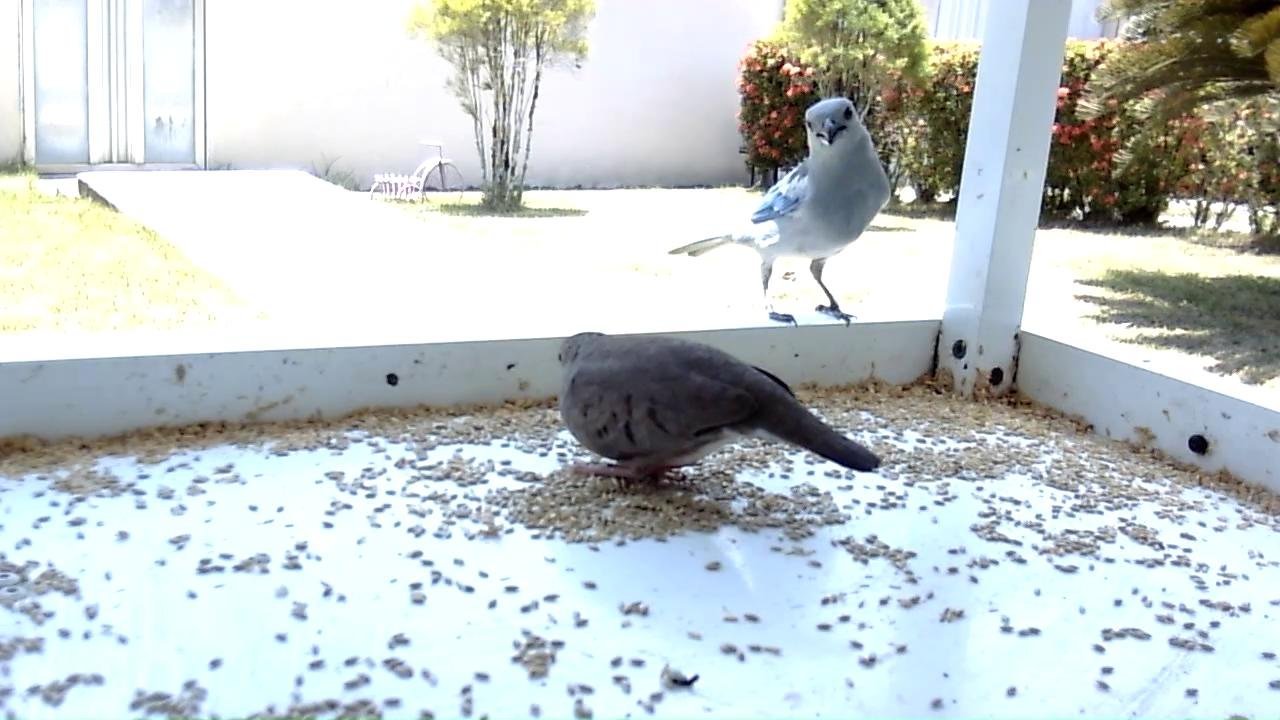rolinha: (558, 330, 886, 483)
sanhaco_da_amazonia: (667, 97, 894, 328)
